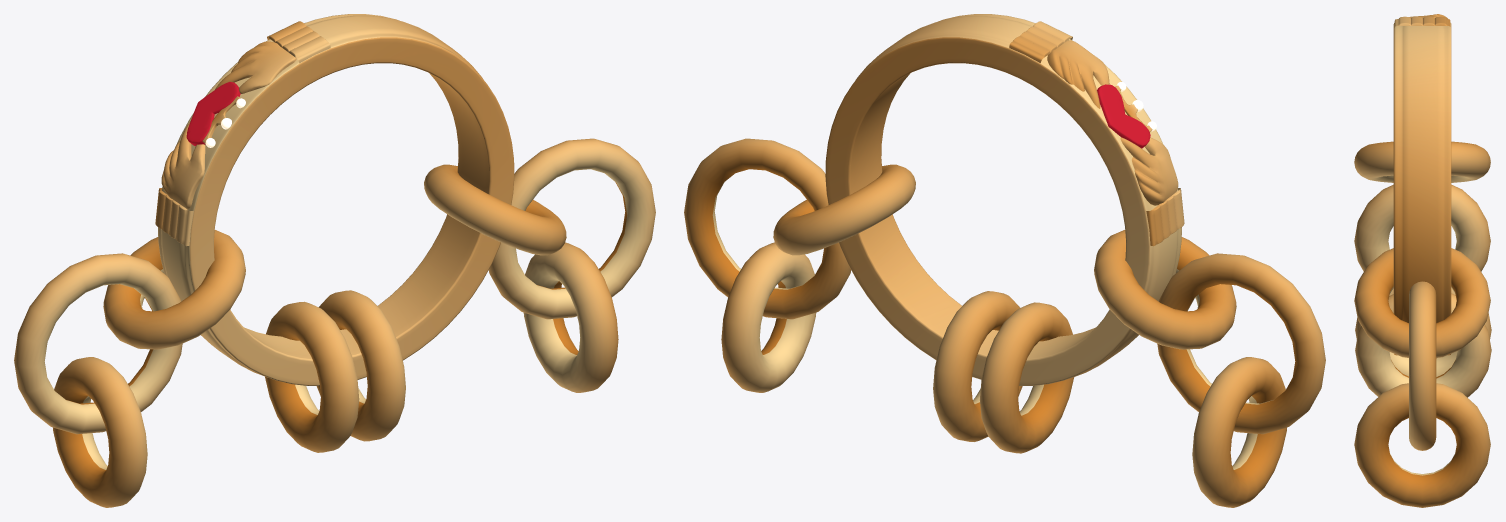
File: hashigo_r_a.fbx
3 renders of one model, left to right at view 1: azimuth 30°, elevation 25°; view 2: azimuth 150°, elevation 25°; view 3: azimuth 270°, elevation 25°, orthographic. The views are drawn at different scales.
Visible parts, largest first — view 1: polySurface27; view 2: polySurface27; view 3: polySurface27.
Part boxes in pixels (x1=…): polySurface27: x1=14, y1=14, x2=655, y2=507; polySurface27: x1=684, y1=14, x2=1325, y2=507; polySurface27: x1=1354, y1=14, x2=1491, y2=507.
Bounding box in the file's own units: 19.09 × 12.02 × 4.02.
